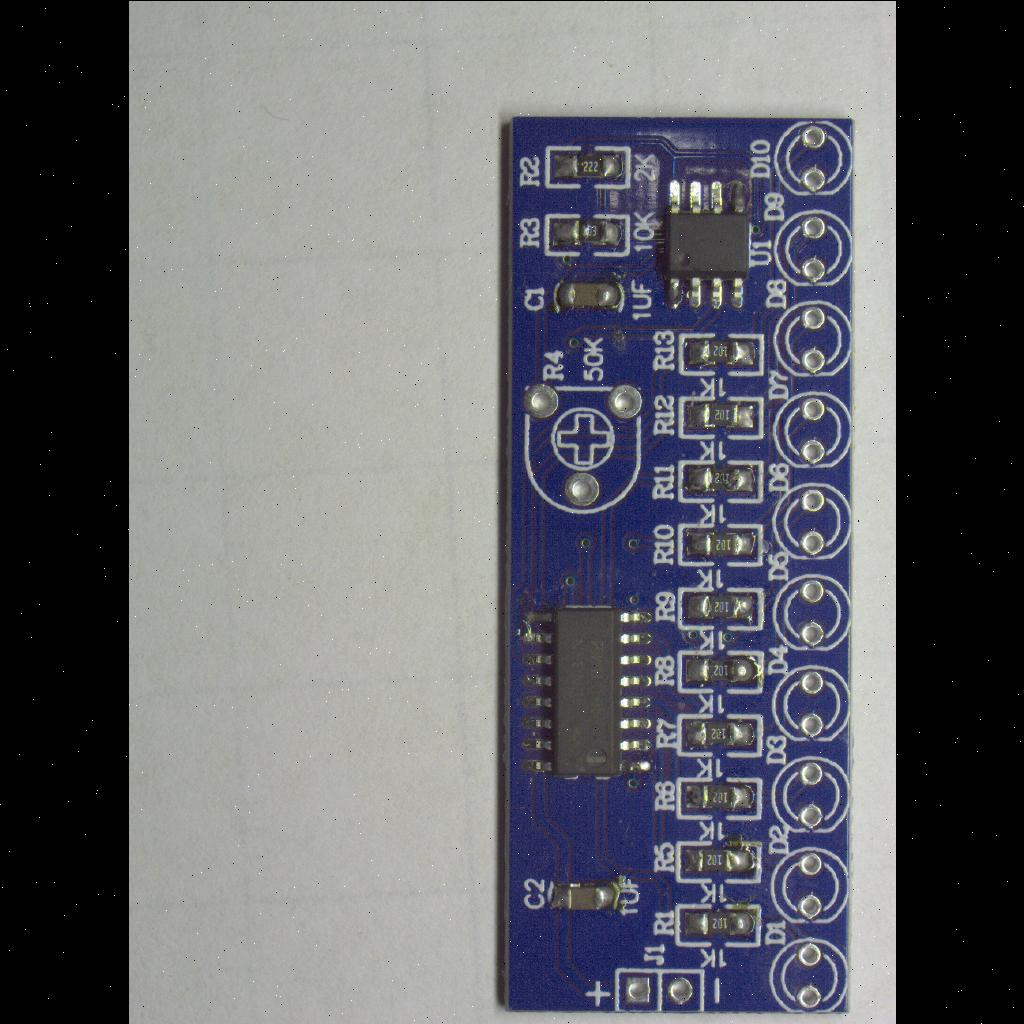OK: (513, 595, 661, 785), (653, 168, 759, 314), (674, 328, 768, 380), (672, 518, 768, 568), (674, 456, 770, 506), (672, 772, 764, 824), (543, 142, 635, 194), (671, 899, 765, 949), (672, 836, 766, 884), (674, 710, 768, 758), (676, 646, 766, 696), (676, 582, 766, 632), (675, 392, 765, 440), (544, 210, 632, 256), (546, 272, 632, 318), (544, 874, 628, 916)
